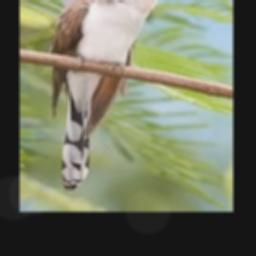Cuckoo: (50, 0, 177, 189)
